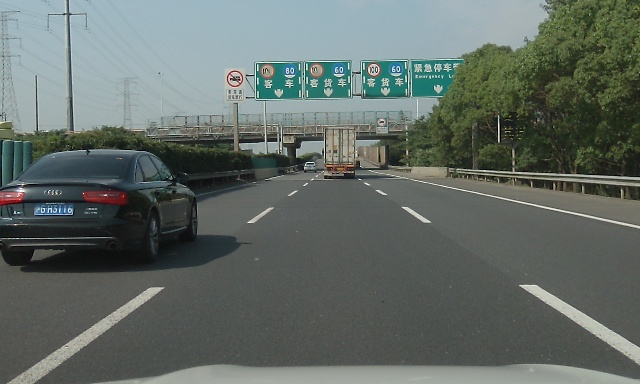car: (0, 150, 198, 266), (304, 162, 317, 173)
truck: (322, 128, 357, 180)
